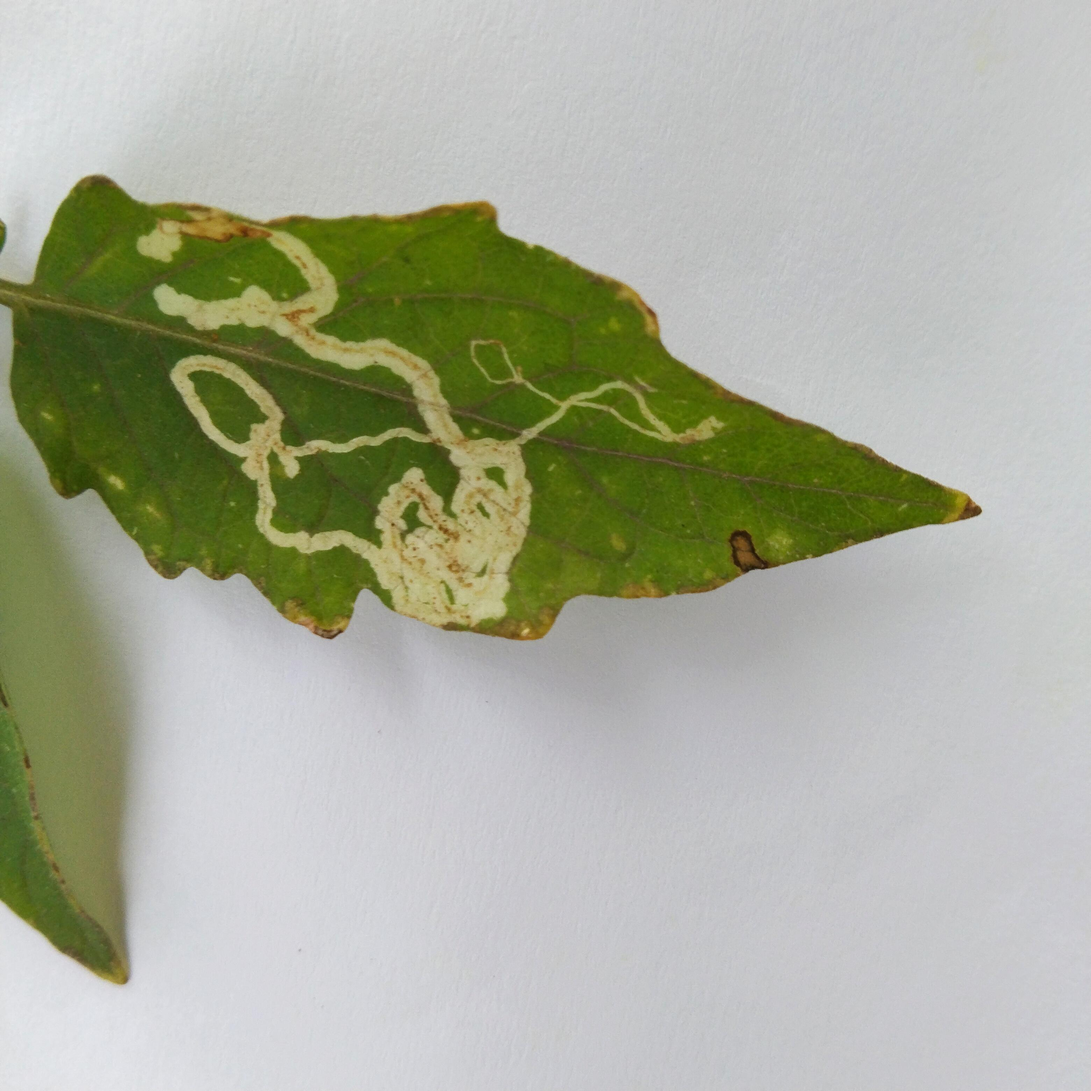Leaf_Miner: (0, 168, 993, 650)
